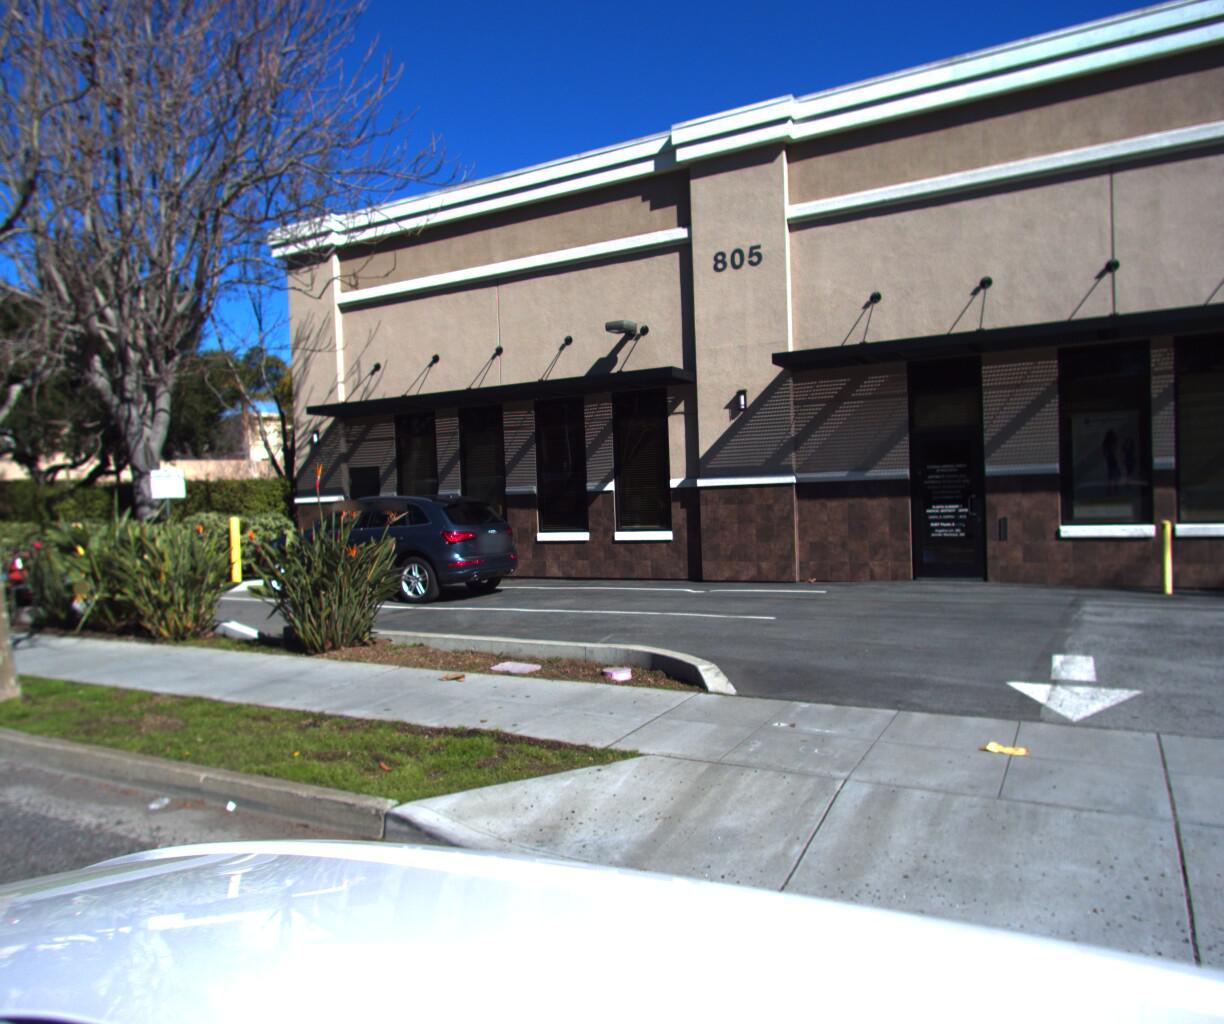car: (234, 487, 536, 606)
